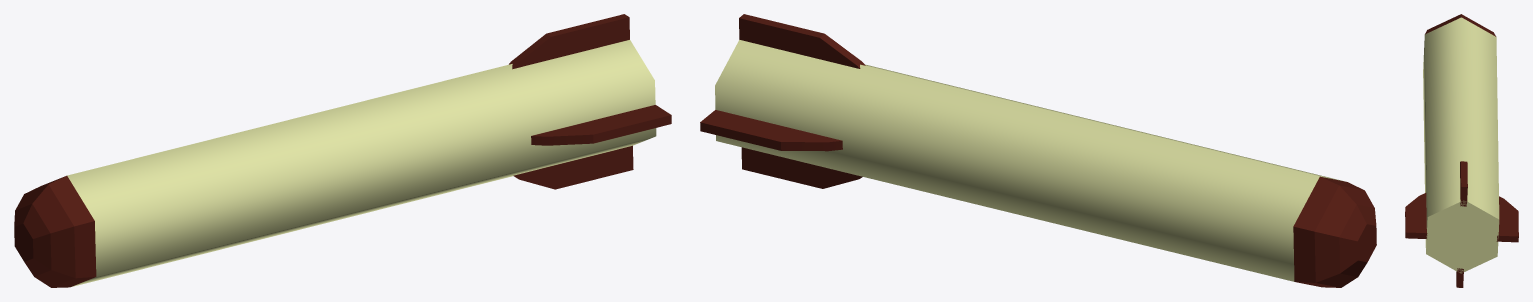
File: Bomb_3.FBX
3 views of the same model, side by side, from view 1: azimuth 30°, elevation 25°; view 2: azimuth 150°, elevation 25°; view 3: azimuth 270°, elevation 25° (orthographic). The views are drawn at different scales.
Visible parts, largest first — view 1: Cylinder149, Bomb_3; view 2: Cylinder149, Bomb_3; view 3: Cylinder149, Bomb_3.
Part boxes in pixels (bbox=[...]): Cylinder149: bbox=[67, 40, 656, 286]; Bomb_3: bbox=[14, 14, 671, 287]; Cylinder149: bbox=[715, 40, 1343, 281]; Bomb_3: bbox=[700, 14, 1376, 287]; Cylinder149: bbox=[1423, 17, 1499, 273]; Bomb_3: bbox=[1405, 14, 1518, 287].
Bounding box in the file's own units: 4.31 × 1.02 × 1.04.
